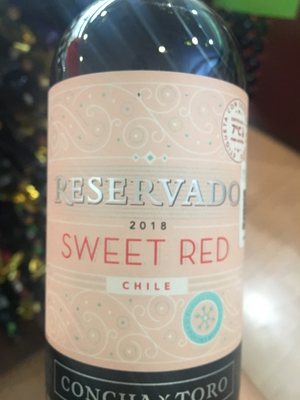reservado sweet red: (40, 9, 253, 400)
